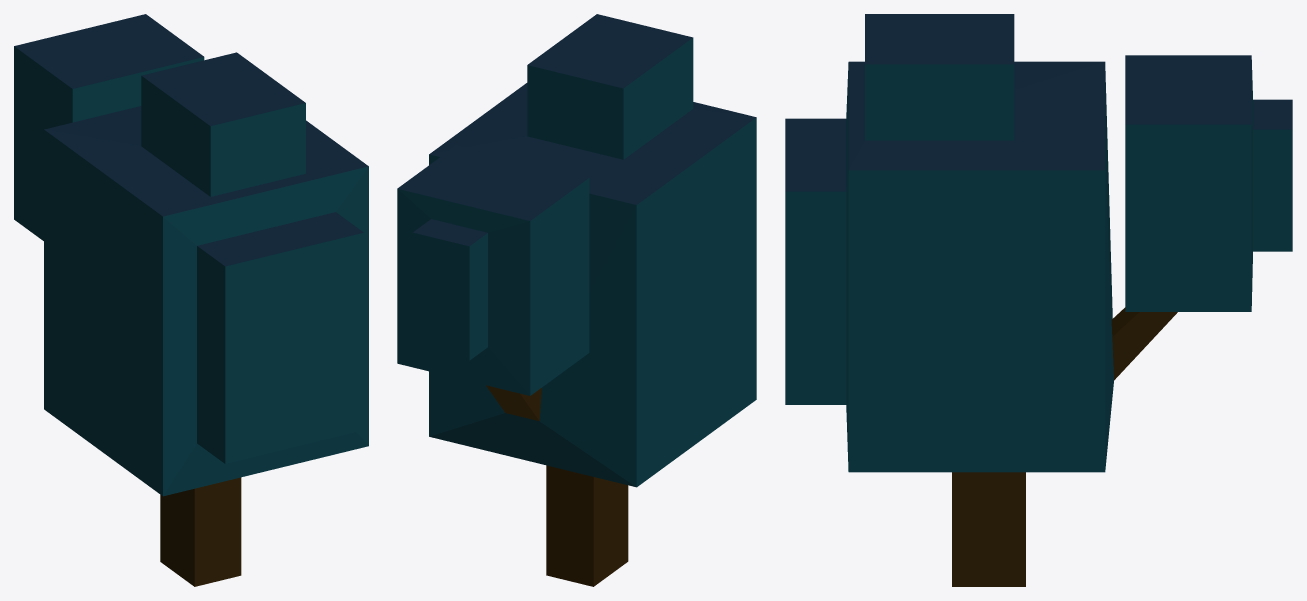
File: Tree_Oak.fbx
The picture shows the model from 3 angles, left to right: view 1: azimuth 30°, elevation 25°; view 2: azimuth 150°, elevation 25°; view 3: azimuth 270°, elevation 25°; orthographic projection. The views are drawn at different scales.
Visible parts, largest first — view 1: Tree1; view 2: Tree1; view 3: Tree1.
Boxes of the visible parts, x1,y1,x2,y2 form: Tree1: (14,14,368,586); Tree1: (397,14,756,586); Tree1: (785,14,1292,586).
Size of the model in its own units: 160 by 368 by 316.
